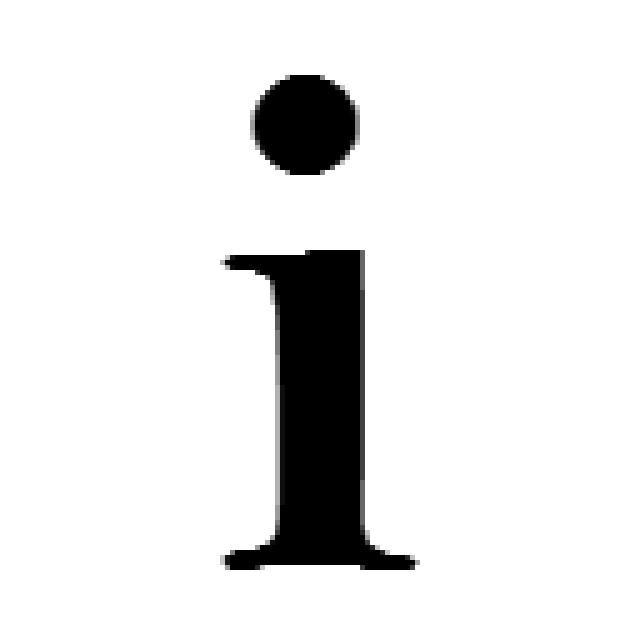I: (206, 74, 419, 580)
